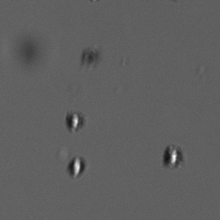Dead Cell: (80, 48, 99, 66)
Living Cell: (62, 110, 87, 132), (162, 145, 184, 170), (67, 156, 87, 179)
